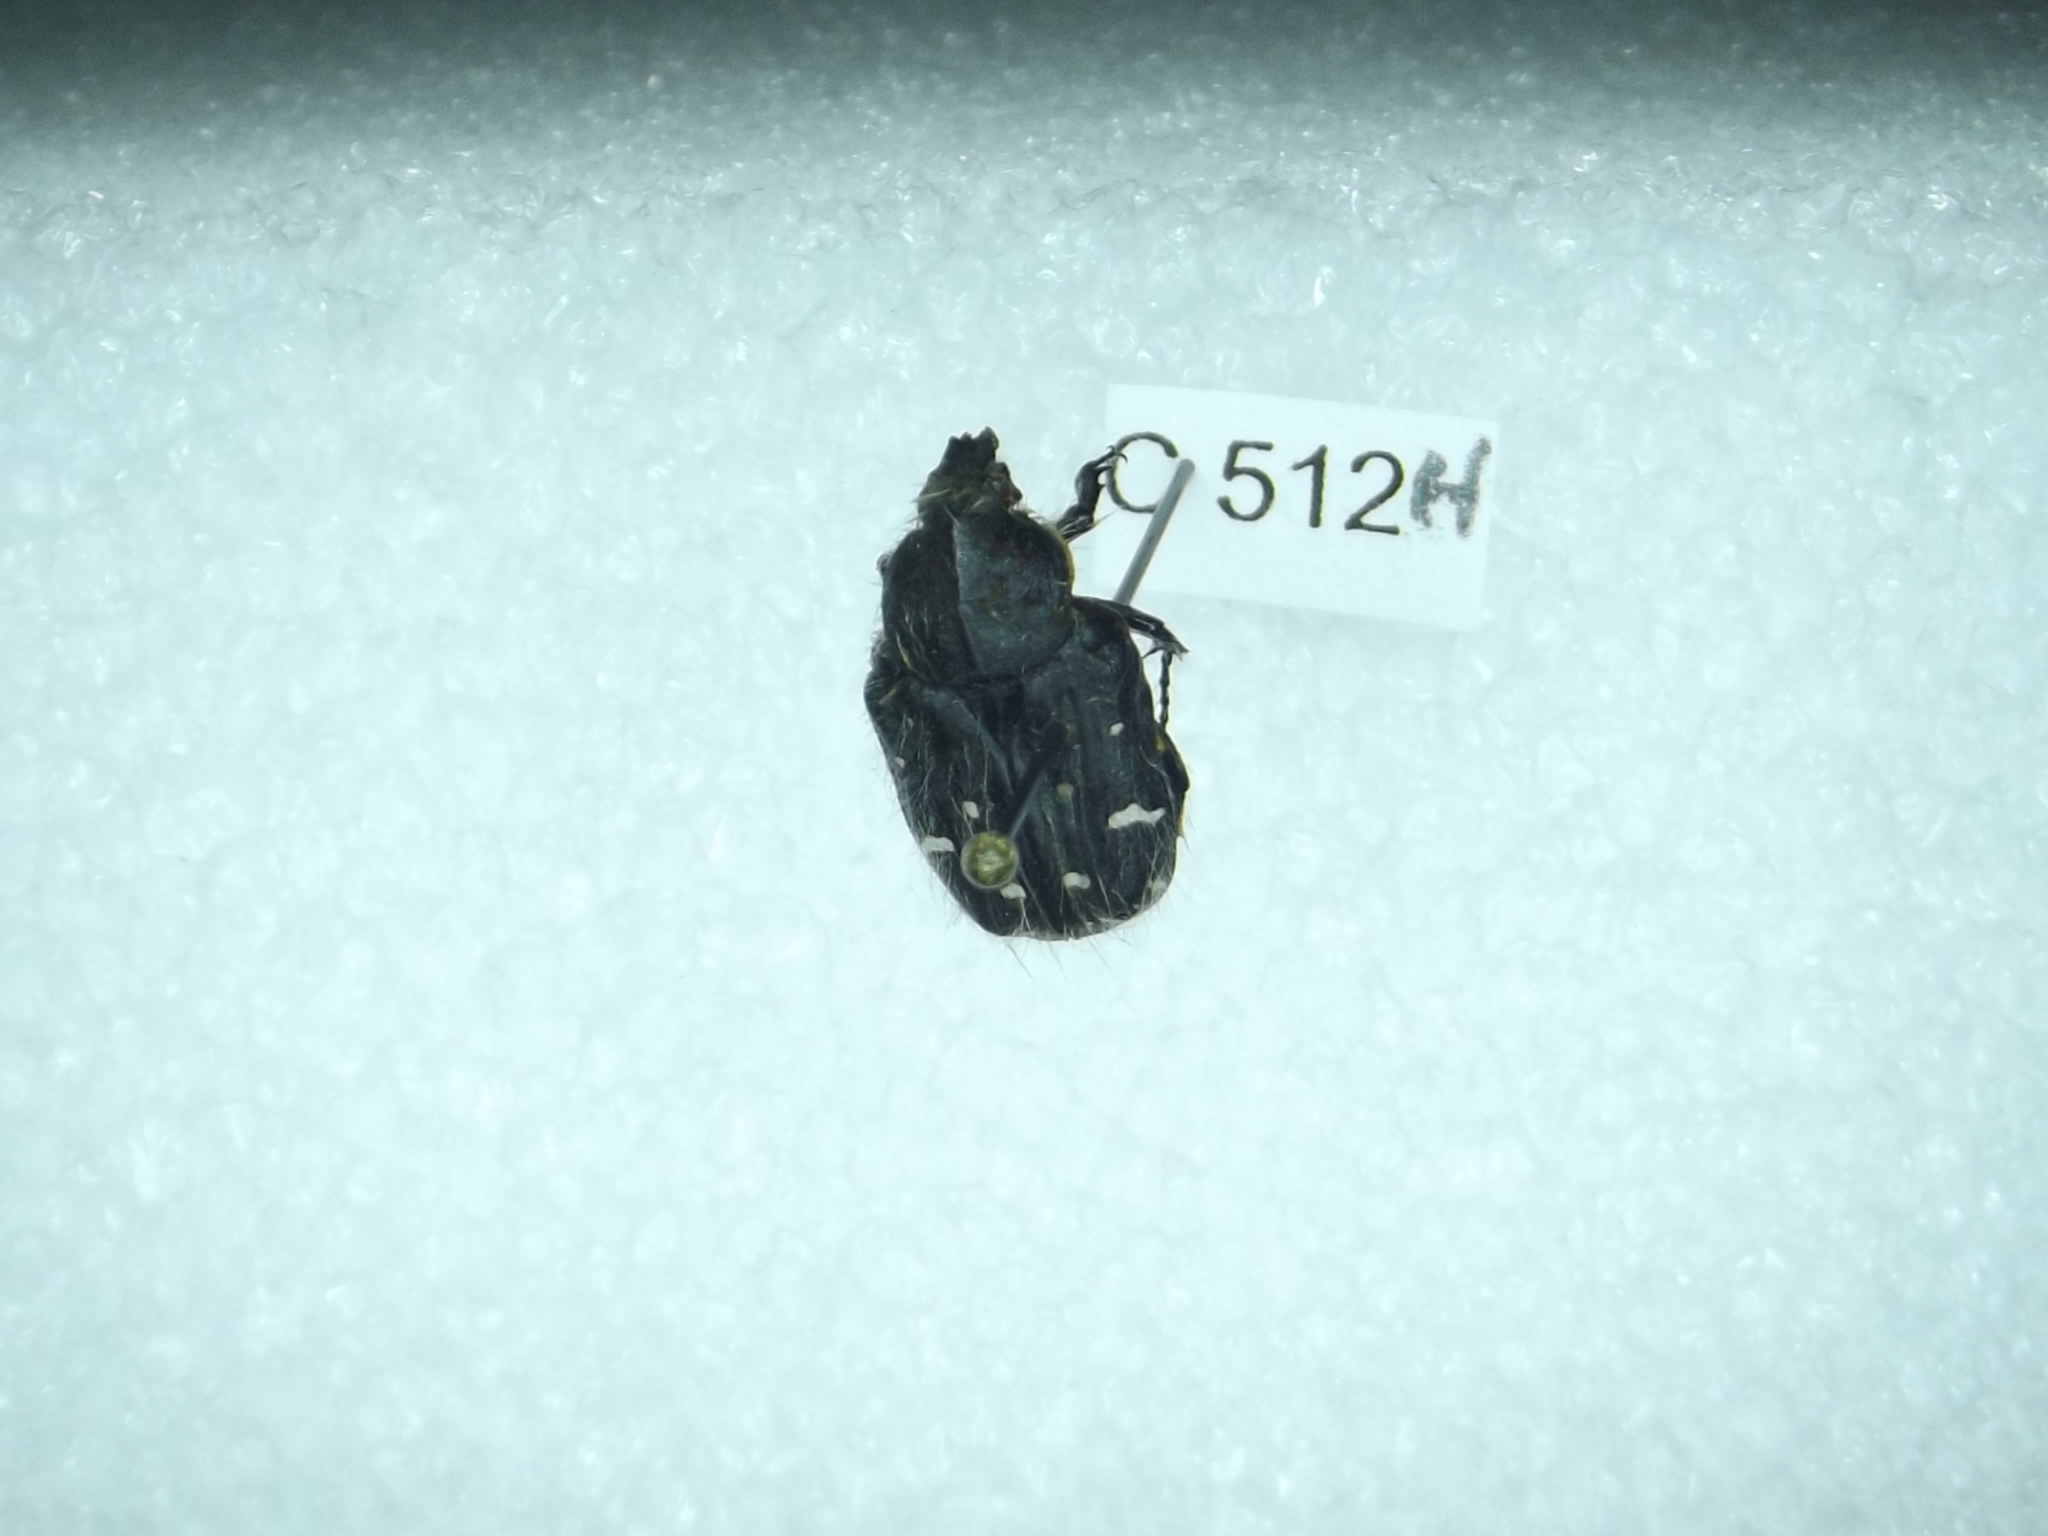Tropinota_senicula: (842, 407, 1234, 965)
